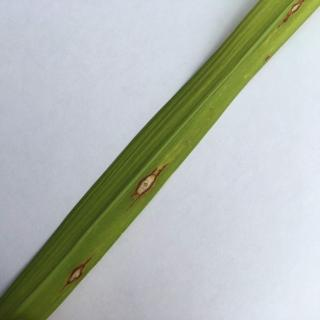Blast: (115, 147, 179, 219), (45, 237, 106, 308), (268, 0, 318, 40)
